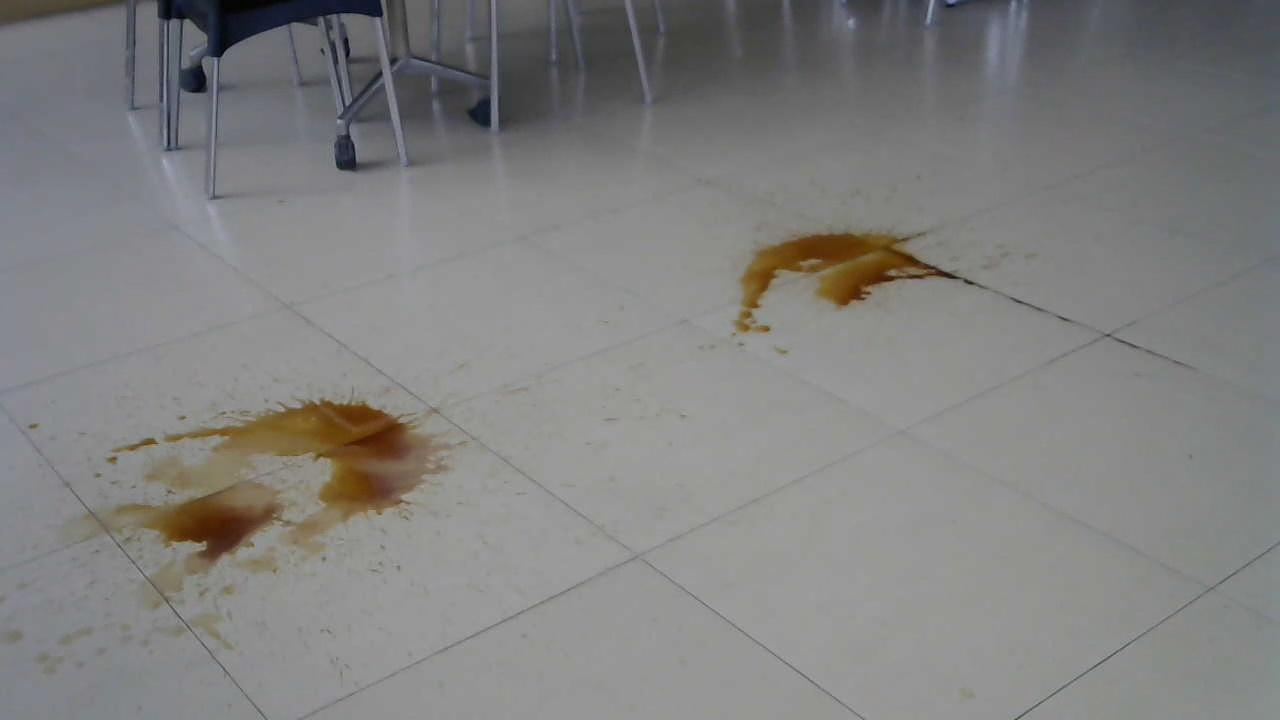dirty_floor: (50, 394, 513, 610), (717, 216, 979, 355)
